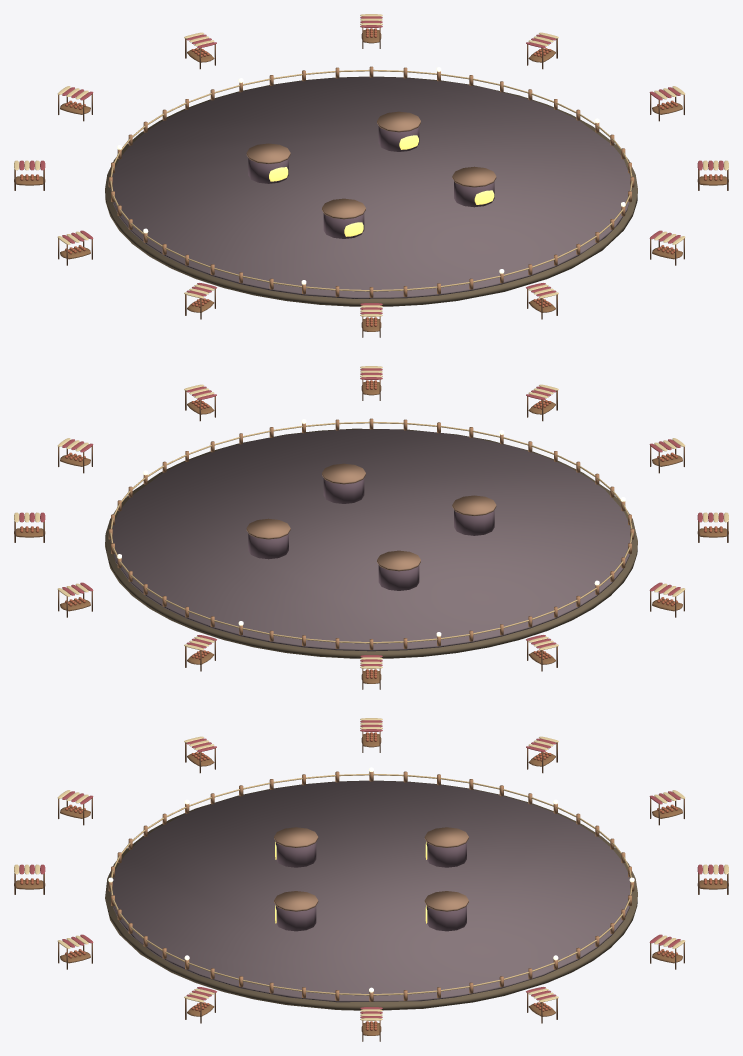
File: carreras_arena_hornos.glb
3 views of the same model, one above another, from view 1: azimuth 30°, elevation 25°; view 2: azimuth 150°, elevation 25°; view 3: azimuth 270°, elevation 25° (orthographic).
Parts seen in each view (by area): view 1: suelo arena, base arena, corona horno.001, corona horno.002, corona horno.003, corona horno, horno arena, horno arena.003, horno arena.001, horno arena.002; view 2: suelo arena, base arena, horno arena.002, horno arena.001, horno arena.003, horno arena, corona horno.003, corona horno, corona horno.001, corona horno.002; view 3: suelo arena, base arena, horno arena, horno arena.001, horno arena.002, horno arena.003, corona horno, corona horno.002, corona horno.001, corona horno.003.
Part boxes in pixels (left/top/right/bottom): suelo arena: left=110, top=77, right=632, bottom=298; base arena: left=105, top=76, right=637, bottom=306; corona horno.001: left=452, top=166, right=496, bottom=187; corona horno.002: left=246, top=143, right=290, bottom=163; corona horno.003: left=377, top=111, right=420, bottom=132; corona horno: left=322, top=198, right=365, bottom=219; horno arena: left=323, top=213, right=364, bottom=238; horno arena.003: left=378, top=126, right=419, bottom=151; horno arena.001: left=454, top=181, right=494, bottom=207; horno arena.002: left=248, top=158, right=288, bottom=183; suelo arena: left=110, top=429, right=632, bottom=651; base arena: left=105, top=428, right=637, bottom=658; horno arena.002: left=378, top=565, right=419, bottom=590; horno arena.001: left=323, top=478, right=364, bottom=503; horno arena.003: left=248, top=533, right=288, bottom=559; horno arena: left=454, top=510, right=494, bottom=535; corona horno.003: left=246, top=518, right=290, bottom=539; corona horno: left=452, top=495, right=496, bottom=515; corona horno.001: left=322, top=463, right=365, bottom=484; corona horno.002: left=377, top=550, right=420, bottom=571; suelo arena: left=110, top=781, right=632, bottom=1002; base arena: left=105, top=780, right=637, bottom=1010; horno arena: left=276, top=842, right=316, bottom=867; horno arena.001: left=276, top=906, right=316, bottom=931; horno arena.002: left=426, top=842, right=466, bottom=867; horno arena.003: left=426, top=906, right=466, bottom=931; corona horno: left=274, top=827, right=318, bottom=847; corona horno.002: left=424, top=827, right=468, bottom=847; corona horno.001: left=274, top=891, right=318, bottom=911; corona horno.003: left=424, top=891, right=468, bottom=911.
Size of the model in its own units: 123 by 5.7 by 123.
